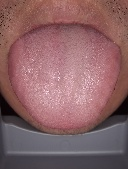tongue: (7, 37, 122, 131)
